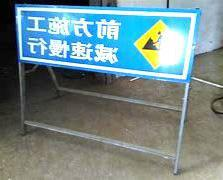sign: (15, 6, 201, 81)
